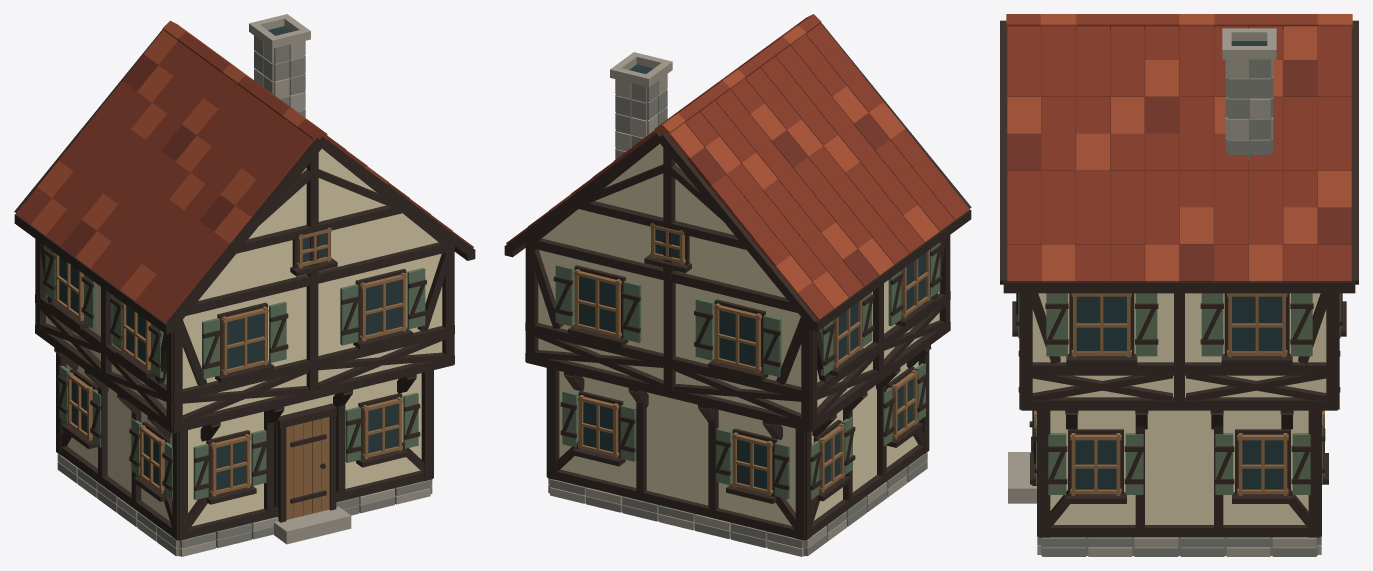
3 views of the same model, side by side, from view 1: azimuth 30°, elevation 25°; view 2: azimuth 150°, elevation 25°; view 3: azimuth 270°, elevation 25° (orthographic). The views are drawn at different scales.
Parts seen in each view (by area): view 1: timberhouse.roof.tiles.roof, timberhouse.timber.front.members.trim, timberhouse.timber.left.members.trim, extrusion, timberhouse.roof.tiles.roof_light, timberhouse.body, timberhouse.upper, timberhouse.roof.verges.trim, timberhouse.gables.front.trim, timberhouse.door.joinery.door, timberhouse.foundation.courses.stone, timberhouse.door.joinery.trim (+37 smaller); view 2: timberhouse.roof.tiles.roof, timberhouse.timber.back.members.trim, timberhouse.body, timberhouse.timber.left.members.trim, extrusion, timberhouse.roof.tiles.roof_light, timberhouse.upper, timberhouse.roof.verges.trim, timberhouse.gables.back.trim, timberhouse.foundation.courses.stone, timberhouse.roof.tiles.roof_dark, timberhouse.chimney.masonry.stone_light (+33 smaller); view 3: timberhouse.roof.tiles.roof, timberhouse.timber.right.members.trim, timberhouse.roof.tiles.roof_light, timberhouse.body, timberhouse.roof.tiles.roof_dark, timberhouse.roof.verges.trim, timberhouse.upper, timberhouse.foundation.courses.stone, timberhouse.chimney.masonry.stone, timberhouse.chimney.masonry.stone_light, timberhouse.windows.right_upper_l.detail.glass, timberhouse.windows.right_upper_r.detail.glass (+18 smaller).
Boxes of the visible parts, x1,y1,x2,y2 form: timberhouse.roof.tiles.roof: [16, 32, 473, 323]; timberhouse.timber.front.members.trim: [173, 242, 454, 540]; timberhouse.timber.left.members.trim: [35, 239, 178, 540]; extrusion: [198, 149, 438, 300]; timberhouse.roof.tiles.roof_light: [31, 20, 388, 300]; timberhouse.body: [66, 364, 421, 526]; timberhouse.upper: [46, 253, 442, 414]; timberhouse.roof.verges.trim: [14, 29, 475, 334]; timberhouse.gables.front.trim: [237, 148, 451, 279]; timberhouse.door.joinery.door: [286, 417, 329, 519]; timberhouse.foundation.courses.stone: [57, 462, 432, 556]; timberhouse.door.joinery.trim: [274, 403, 336, 522]; timberhouse.roof.tiles.roof: [506, 14, 969, 320]; timberhouse.timber.back.members.trim: [526, 238, 810, 540]; timberhouse.body: [559, 361, 918, 525]; timberhouse.timber.left.members.trim: [805, 235, 950, 540]; extrusion: [542, 144, 785, 297]; timberhouse.roof.tiles.roof_light: [549, 25, 939, 309]; timberhouse.upper: [538, 250, 939, 413]; timberhouse.roof.verges.trim: [504, 23, 971, 331]; timberhouse.gables.back.trim: [528, 143, 746, 276]; timberhouse.foundation.courses.stone: [548, 452, 927, 556]; timberhouse.roof.tiles.roof_dark: [528, 113, 889, 287]; timberhouse.chimney.masonry.stone_light: [610, 52, 672, 151]; timberhouse.roof.tiles.roof: [1006, 14, 1351, 281]; timberhouse.timber.right.members.trim: [1021, 293, 1337, 537]; timberhouse.roof.tiles.roof_light: [1007, 14, 1352, 281]; timberhouse.body: [1050, 410, 1308, 524]; timberhouse.roof.tiles.roof_dark: [1007, 29, 1351, 281]; timberhouse.roof.verges.trim: [1000, 20, 1358, 293]; timberhouse.upper: [1032, 293, 1326, 397]; timberhouse.foundation.courses.stone: [1037, 536, 1321, 556]; timberhouse.chimney.masonry.stone: [1225, 59, 1273, 159]; timberhouse.chimney.masonry.stone_light: [1222, 28, 1276, 139]; timberhouse.windows.right_upper_l.detail.glass: [1076, 296, 1126, 351]; timberhouse.windows.right_upper_r.detail.glass: [1232, 296, 1282, 351].
Size of the model in its own units: 7.07 by 9.1 by 6.13.
